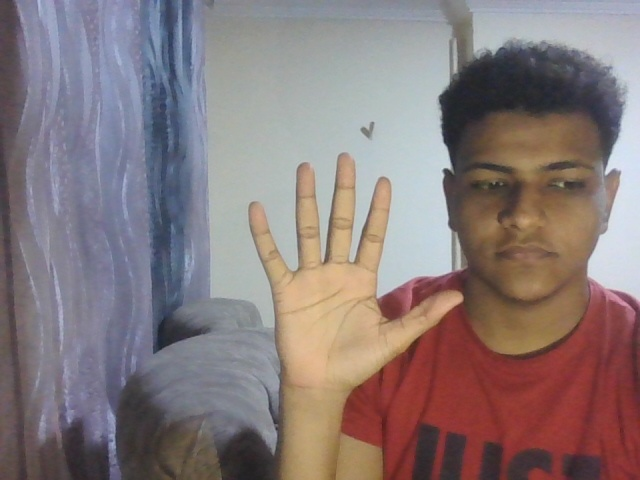Hello: (244, 147, 465, 403)
